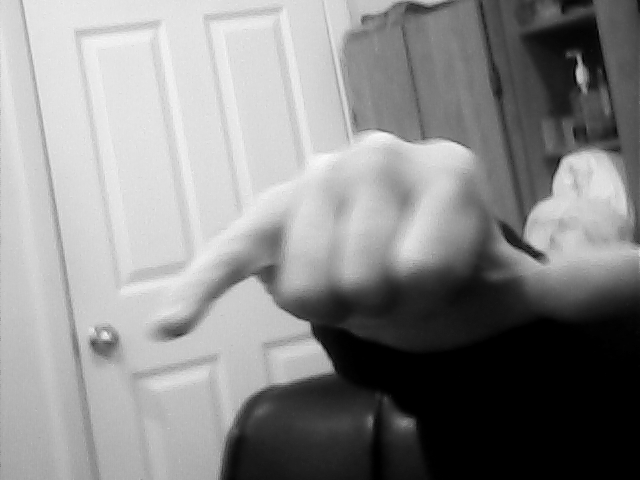aloha: (138, 125, 640, 352)
